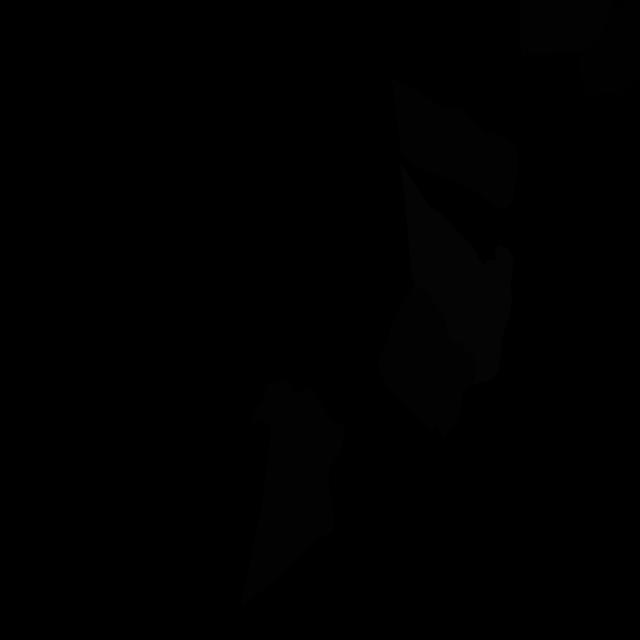cardboard: (240, 380, 344, 608), (392, 79, 518, 210), (378, 283, 478, 444), (518, 0, 614, 55)
rigid_plastic: (578, 0, 640, 101)
soft_plastic: (400, 163, 514, 385)
